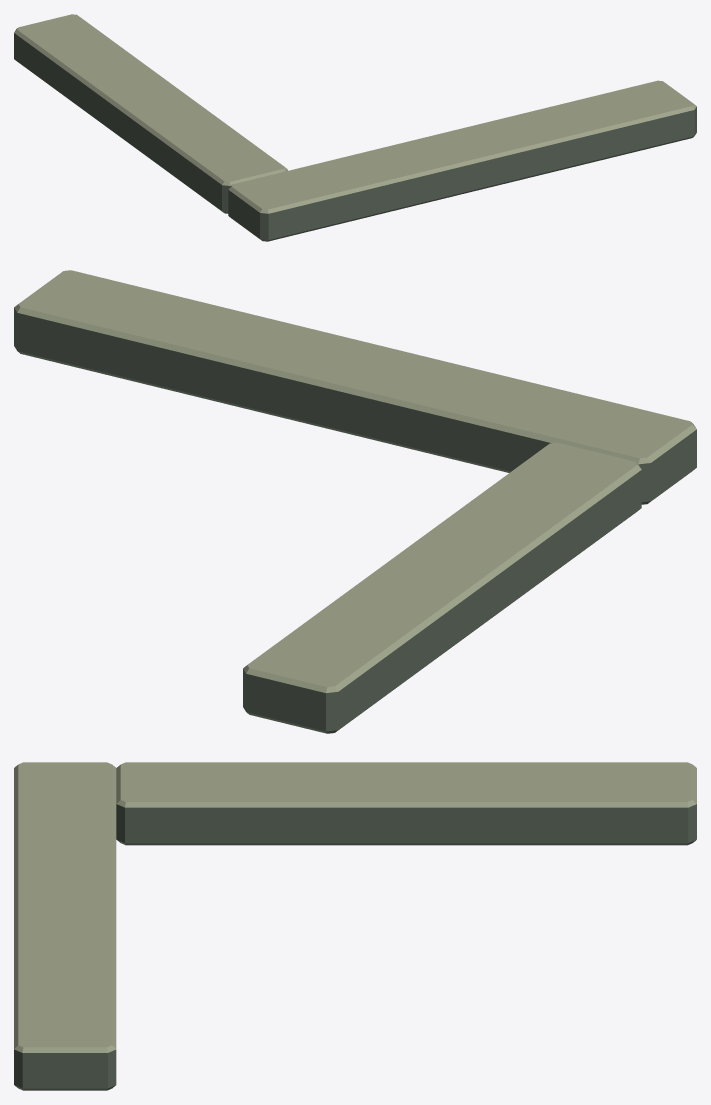
Rendered from floor-border-corner.glb.
3 renders of one model, top to bottom at view 1: azimuth 30°, elevation 25°; view 2: azimuth 150°, elevation 25°; view 3: azimuth 270°, elevation 25°, orthographic. The views are drawn at different scales.
Parts seen in each view (by area): view 1: floor-border-corner__body; view 2: floor-border-corner__body; view 3: floor-border-corner__body.
Boxes of the visible parts, x1,y1,x2,y2 form: floor-border-corner__body: [14, 14, 696, 241]; floor-border-corner__body: [14, 270, 696, 733]; floor-border-corner__body: [14, 762, 696, 1090].
Bounding box in the file's own units: 2 × 0.14 × 2.
